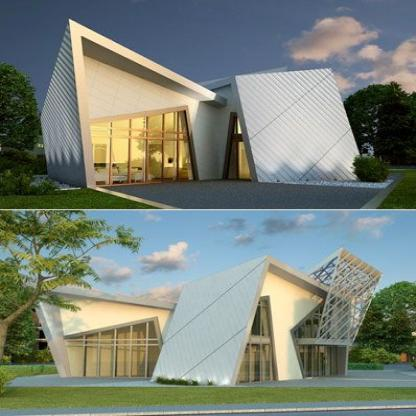Building Outline: (25, 247, 384, 386)
Deco: (304, 247, 384, 346)
Facade: (24, 246, 385, 387)
Floor Slab: (295, 339, 351, 346), (248, 337, 271, 343)
Glass Wall: (66, 321, 160, 377), (293, 302, 339, 338), (239, 343, 274, 384), (298, 345, 337, 377), (249, 300, 270, 336)
